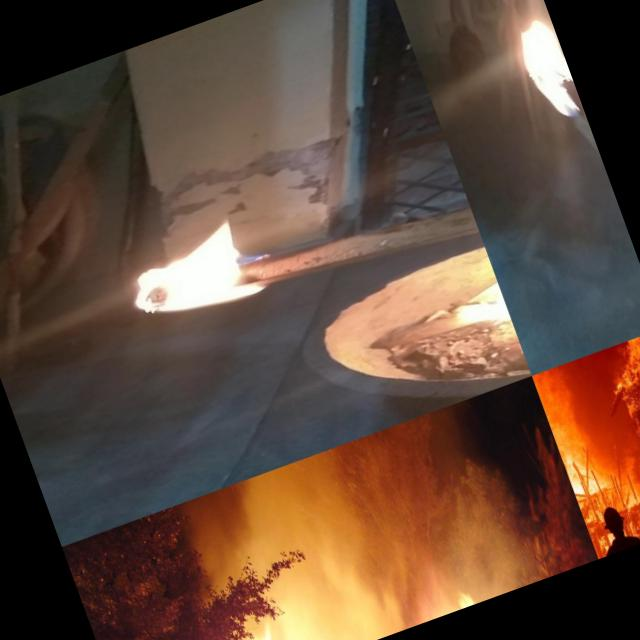fire: (88, 187, 296, 350), (191, 551, 499, 640), (532, 357, 634, 516), (495, 0, 589, 143), (444, 280, 517, 355), (619, 381, 640, 533)
smoke: (224, 388, 550, 628)
